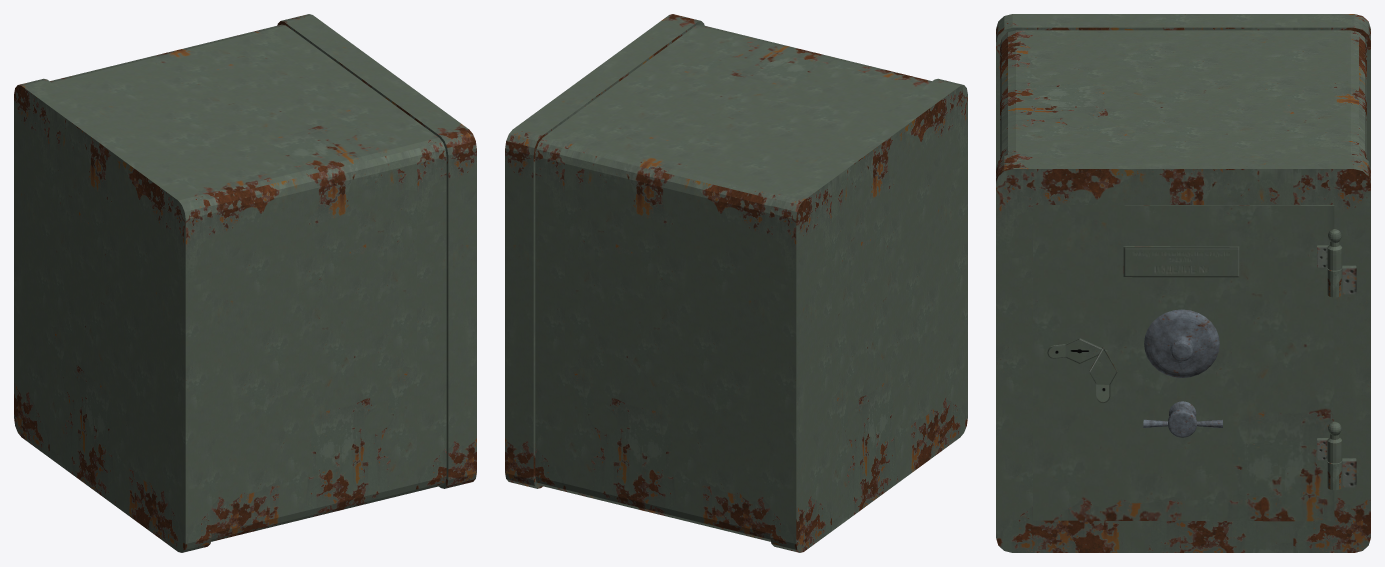
The model's file is safe.fbx.
3 views of the same model, side by side, from view 1: azimuth 30°, elevation 25°; view 2: azimuth 150°, elevation 25°; view 3: azimuth 270°, elevation 25° (orthographic). The views are drawn at different scales.
Parts seen in each view (by area): view 1: Cube; view 2: Cube; view 3: Cube, Cube.001, Circle.002, Circle.001.
Part boxes in pixels (box(x1,y1,x2,y2)): Cube: box(14, 14, 476, 552); Cube: box(505, 14, 967, 552); Cube: box(996, 14, 1370, 552); Cube.001: box(1033, 205, 1342, 521); Circle.002: box(1327, 265, 1356, 297); Circle.001: box(1327, 458, 1356, 490).
Bounding box in the file's own units: 215 × 231 × 204.
